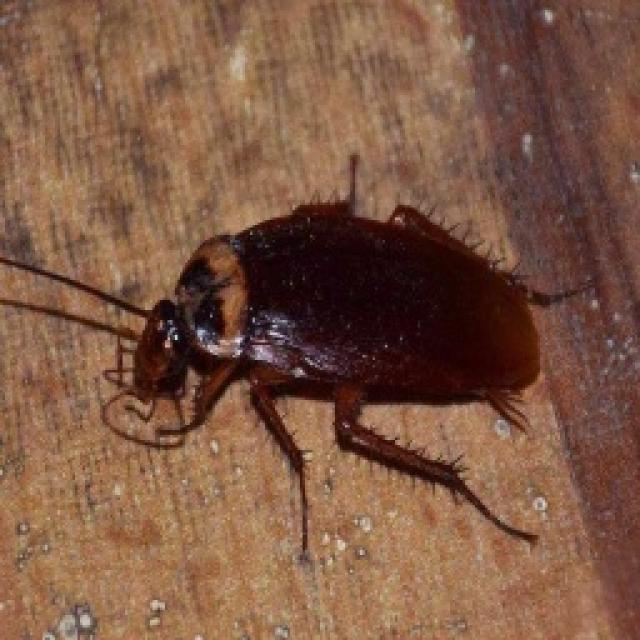cockroach: (3, 150, 587, 561)
